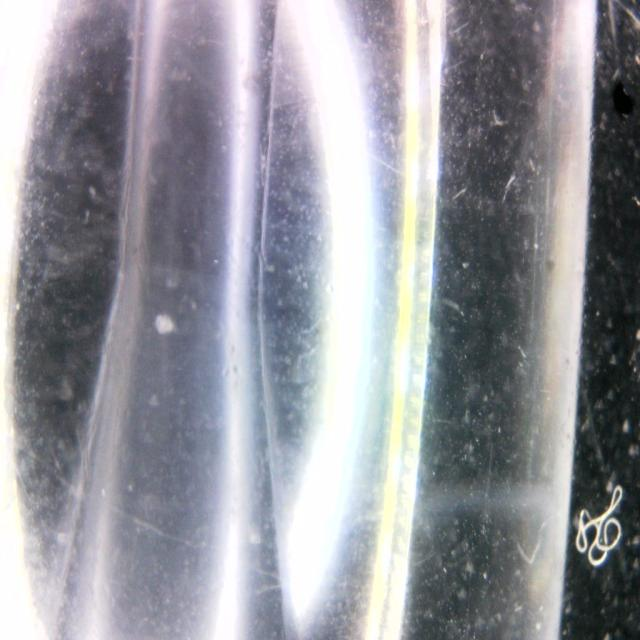pipe: (48, 0, 290, 640)
